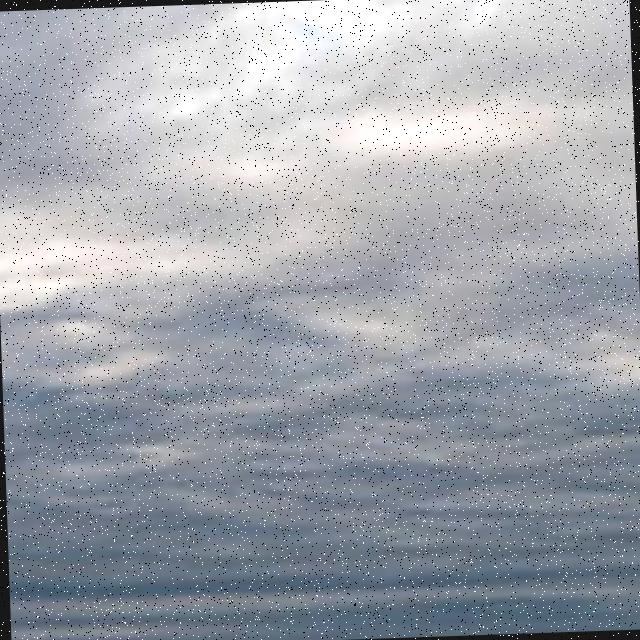As: (1, 1, 640, 614)
